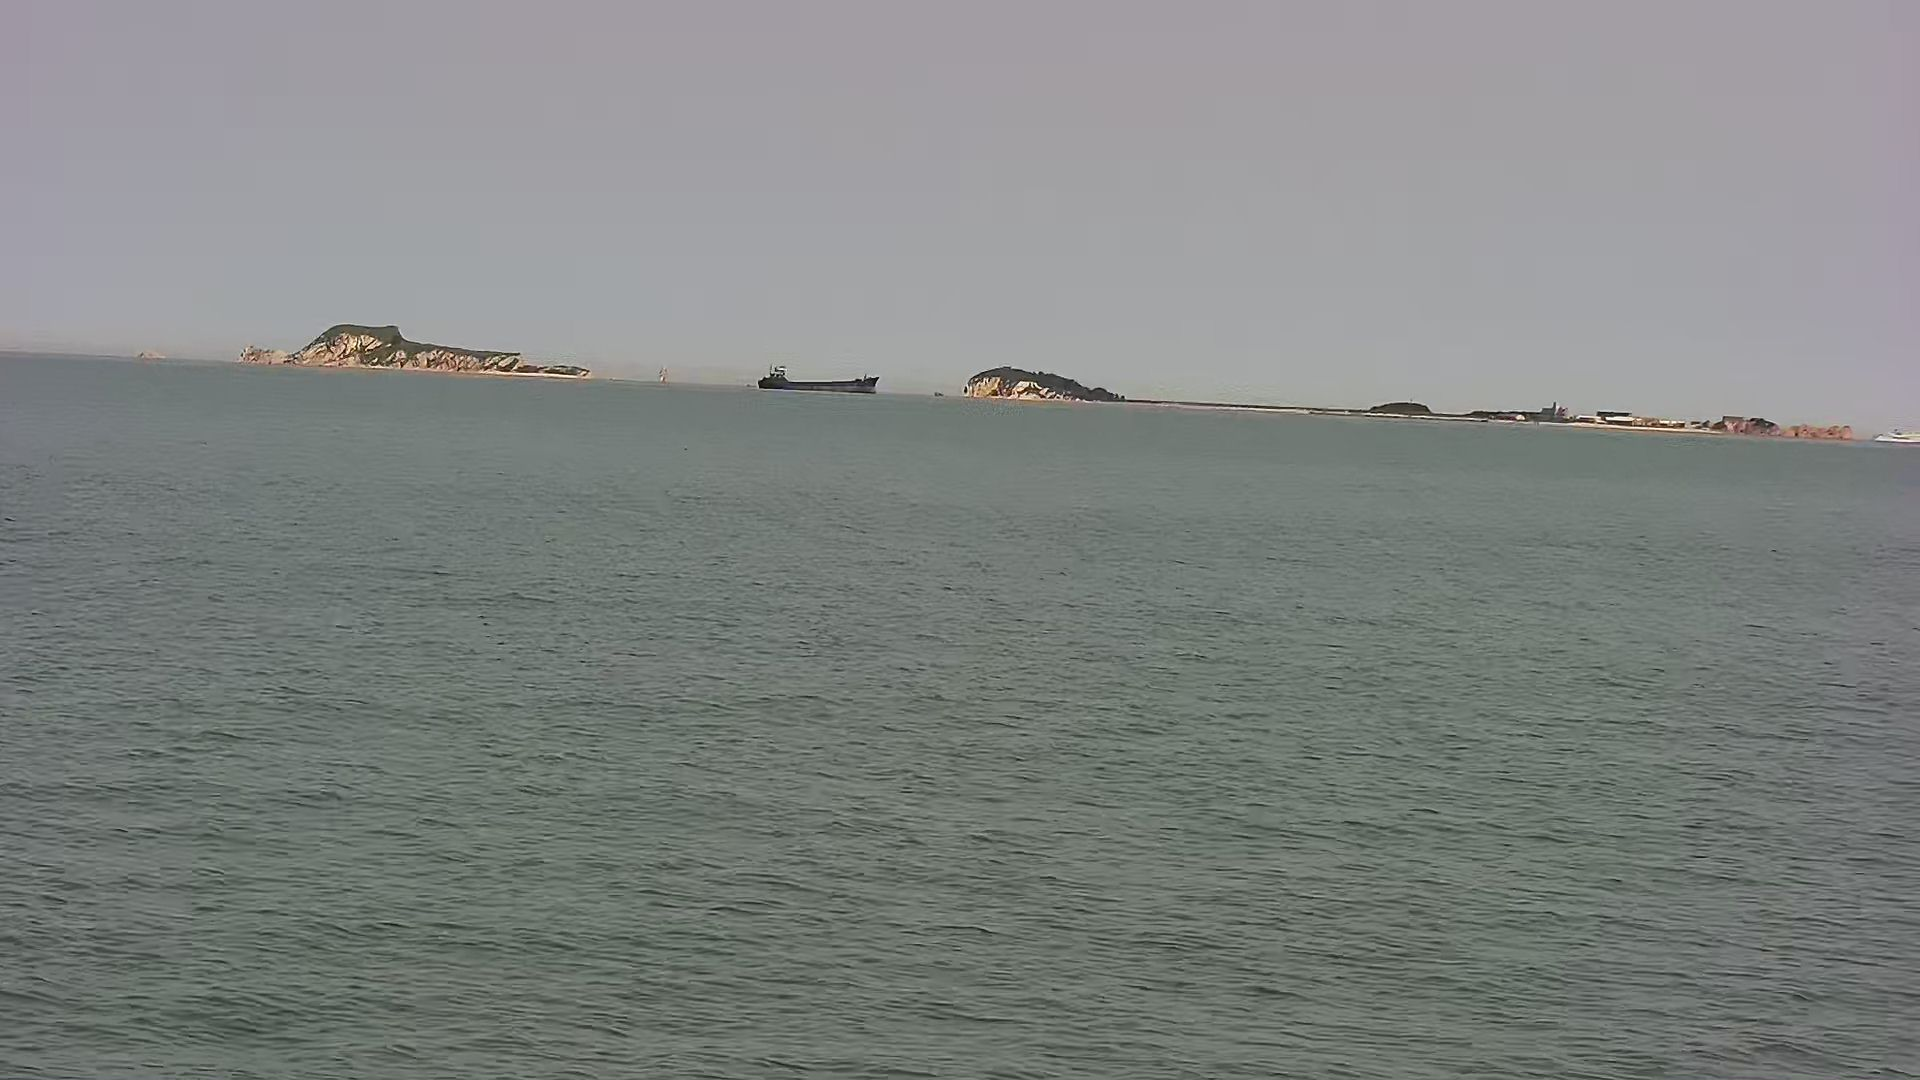rock: (233, 319, 591, 378), (960, 361, 1137, 406)
ship: (754, 360, 878, 398)
